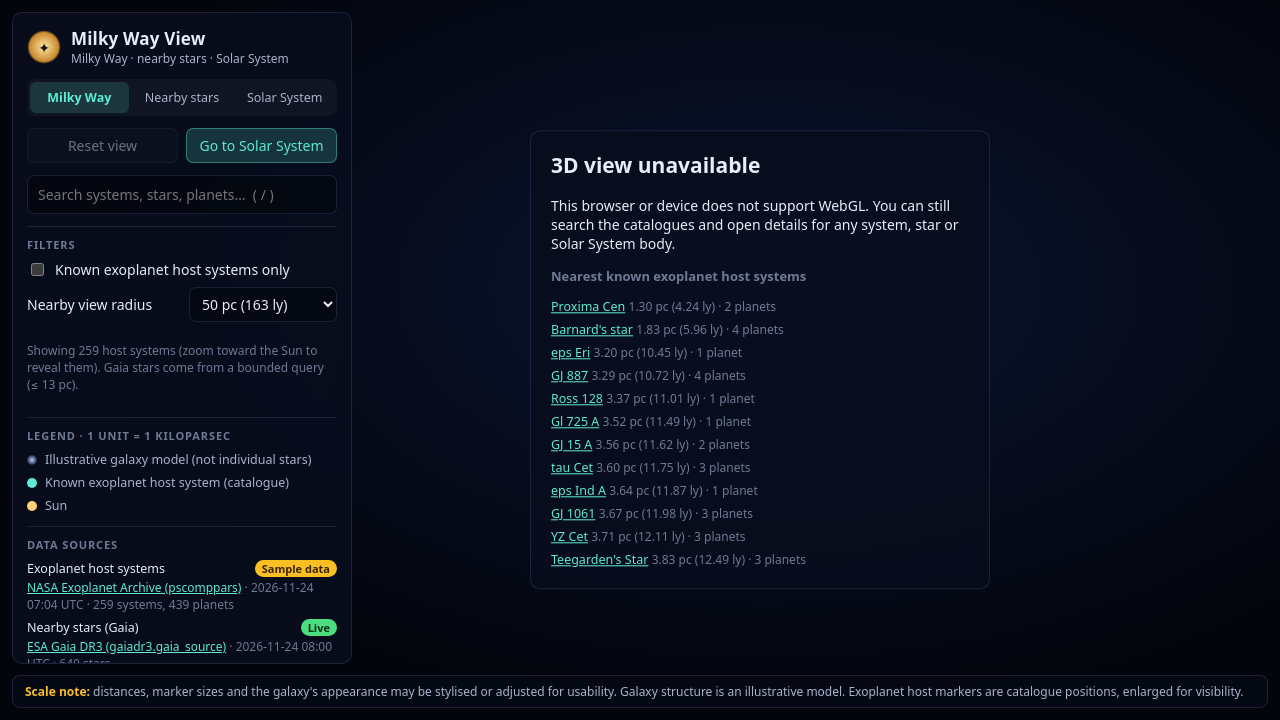
Explorer › falls back to a usable list when WebGL is unavailable
Expected: the heading "3D view unavailable" is shown, left=551, top=151, right=760, bottom=179
Click the button "Proxima Cen" at (588, 307), box left=551, top=299, right=625, bottom=316
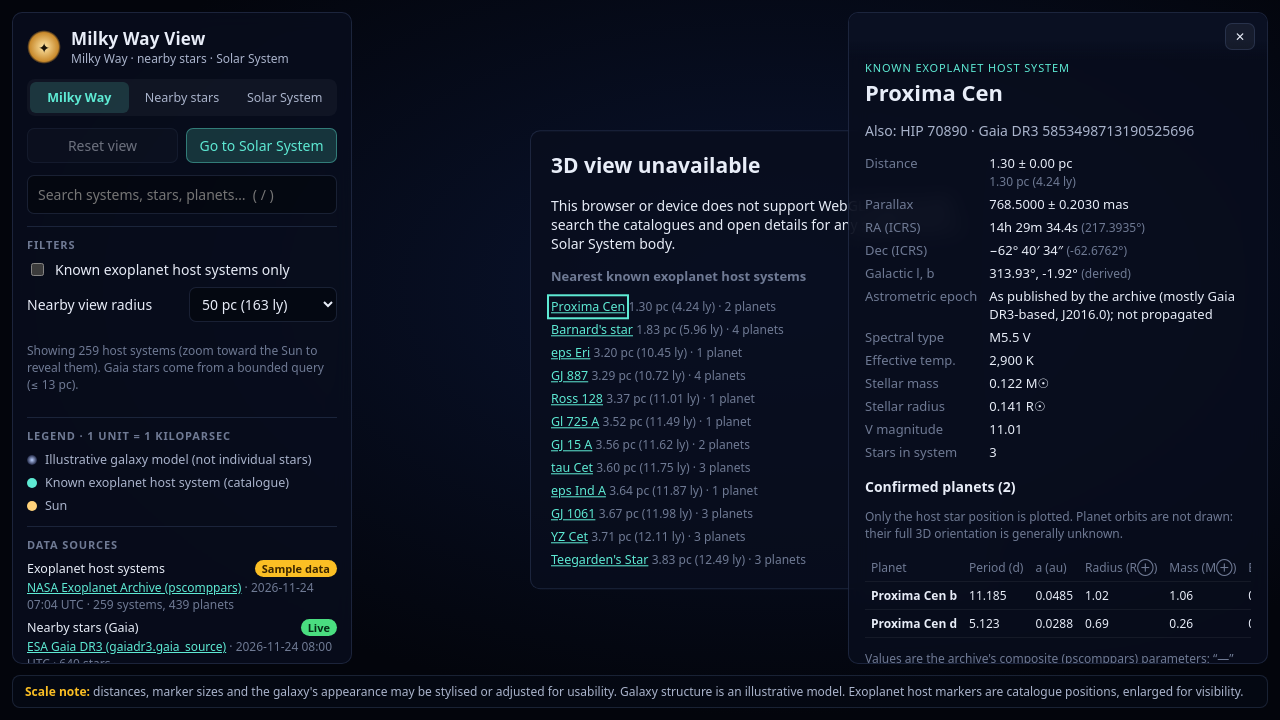
Expected: the element "Proxima Cen" is shown, left=848, top=12, right=1268, bottom=664
